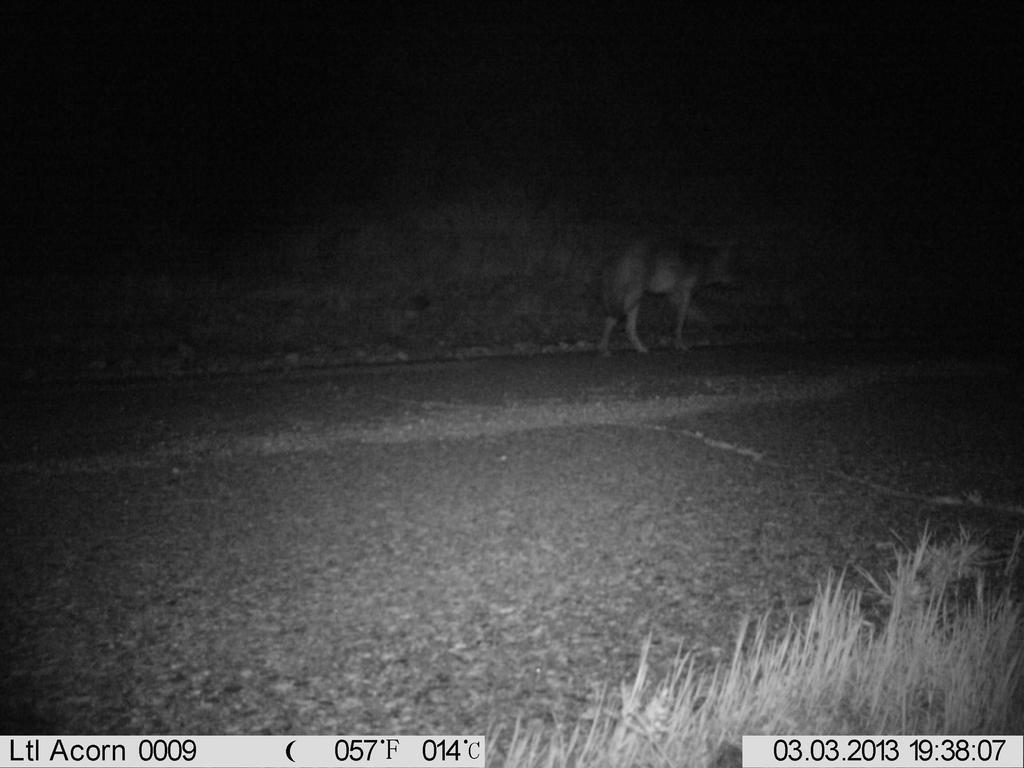coyote: (592, 233, 748, 368)
